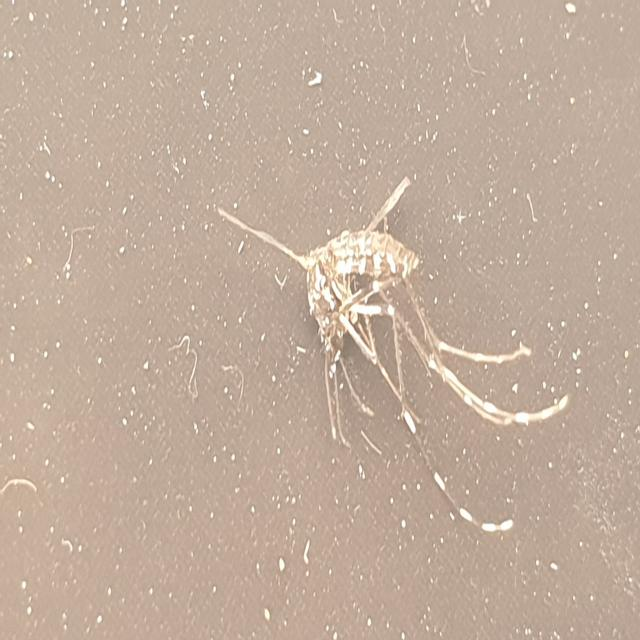albopictus: (216, 137, 572, 525)
